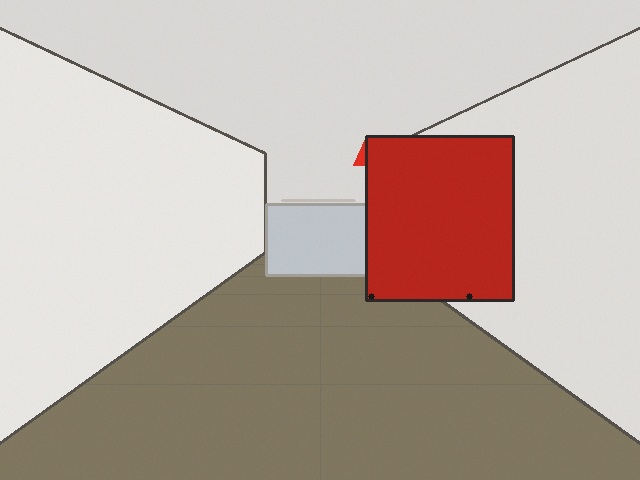cart: (353, 136, 513, 300)
directional_sign: (431, 156, 511, 201)
hospital_bed: (266, 204, 368, 275)
